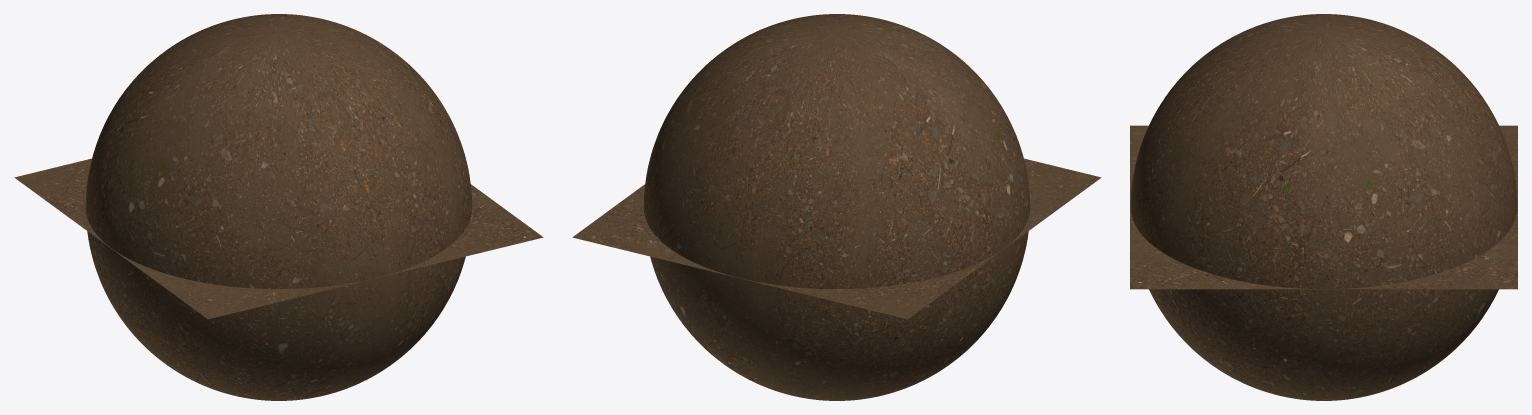
Rendered from forest_ground_06_4k.fbx.
3 views of the same model, side by side, from view 1: azimuth 30°, elevation 25°; view 2: azimuth 150°, elevation 25°; view 3: azimuth 270°, elevation 25° (orthographic).
Parts seen in each view (by area): view 1: Sphere, Plane; view 2: Sphere, Plane; view 3: Sphere, Plane.
Boxes of the visible parts, box(x1,y1,x2,y2) form: Sphere: box(85, 14, 472, 400); Plane: box(14, 158, 543, 319); Sphere: box(643, 14, 1030, 400); Plane: box(572, 158, 1101, 319); Sphere: box(1130, 14, 1517, 400); Plane: box(1130, 125, 1517, 289).
Bounding box in the file's own units: 211 × 211 × 211.
